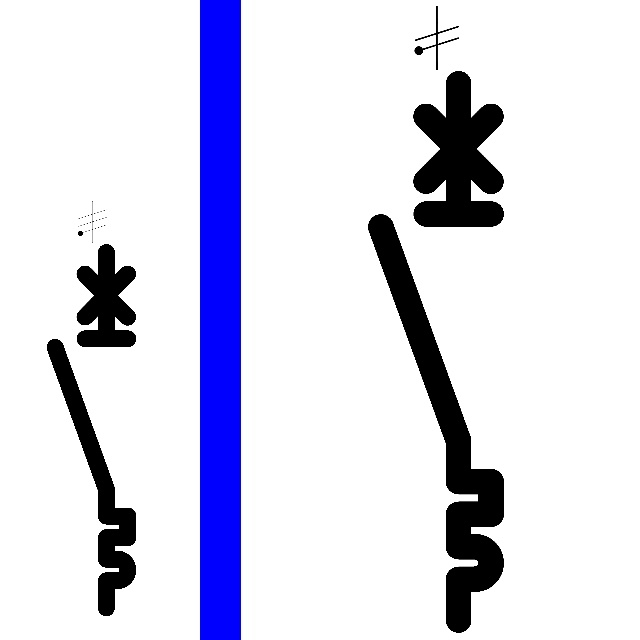interruptor_termomagnetico: (367, 69, 505, 633), (46, 243, 137, 617)
